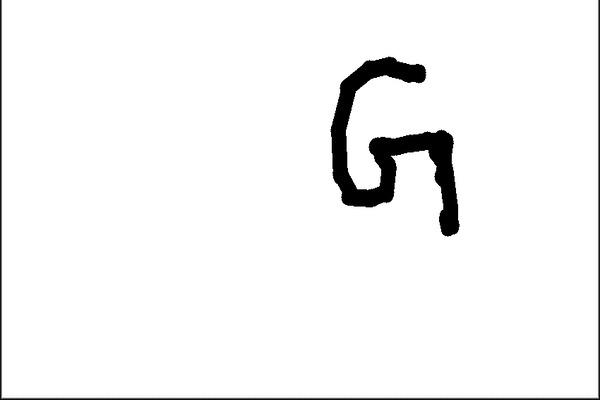G: (326, 53, 467, 239)
